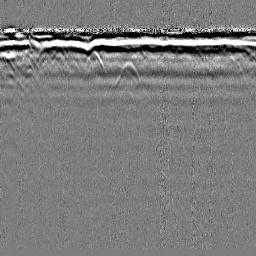cavity: (114, 59, 141, 87)
